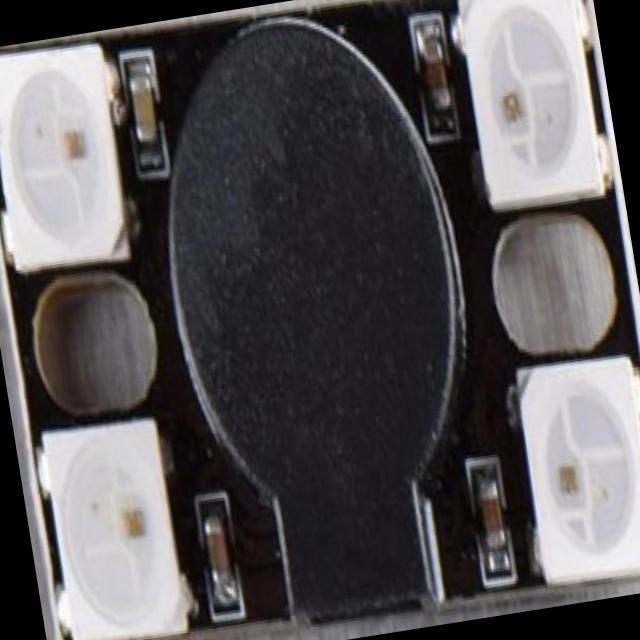LED: (0, 30, 139, 289), (25, 416, 185, 640), (446, 0, 608, 200), (511, 366, 640, 594)
capacitor: (116, 24, 174, 172), (470, 464, 518, 584), (190, 514, 244, 620), (417, 15, 460, 132)
